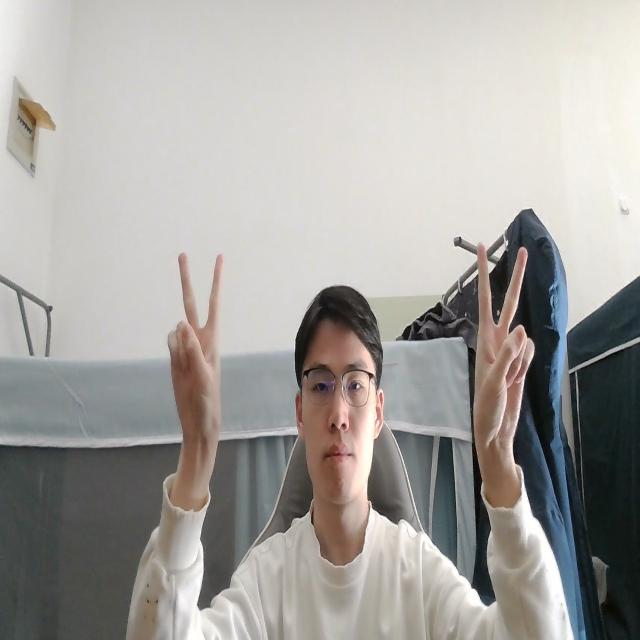yes: (469, 238, 534, 481), (165, 242, 224, 472)
